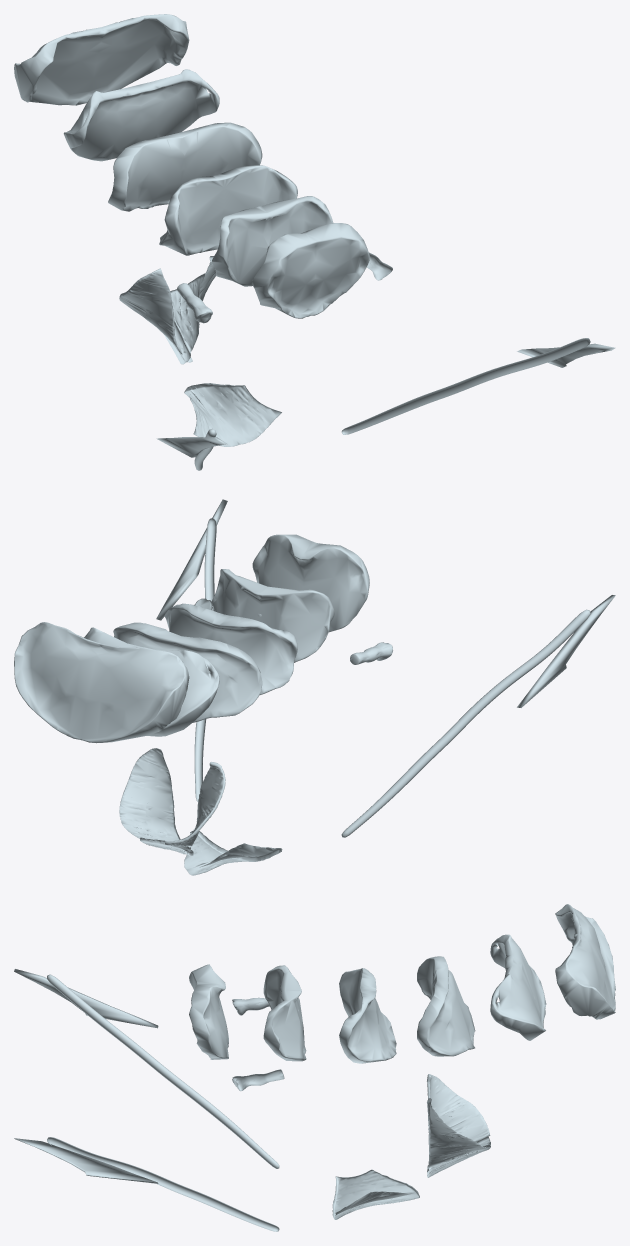
Rendered from neck__joints.cdf56809e9.glb.
3 views of the same model, one above another, from view 1: azimuth 30°, elevation 25°; view 2: azimuth 150°, elevation 25°; view 3: azimuth 270°, elevation 25° (orthographic). The views are drawn at different scales.
Visible parts, largest first — view 1: Intervertebral disc C7-T1, Intervertebral disc C6-C7, Intervertebral disc C5-C6, Intervertebral disc C2-C3, Intervertebral disc C4-C5, Intervertebral disc C3-C4, Median thyrohyoid ligament, Stylohyoid ligament.l, Cricopharyngeal ligament.r, Cricopharyngeal ligament.l, Stylomandibular ligament.r, Stylomandibular ligament.l (+1 smaller); view 2: Intervertebral disc C7-T1, Intervertebral disc C2-C3, Intervertebral disc C3-C4, Intervertebral disc C4-C5, Intervertebral disc C5-C6, Cricopharyngeal ligament.l, Stylohyoid ligament.r, Intervertebral disc C6-C7, Median thyrohyoid ligament, Stylohyoid ligament.l, Stylomandibular ligament.r, Cricopharyngeal ligament.r (+2 smaller); view 3: Intervertebral disc C7-T1, Intervertebral disc C5-C6, Intervertebral disc C6-C7, Intervertebral disc C4-C5, Intervertebral disc C3-C4, Intervertebral disc C2-C3, Stylohyoid ligament.r, Median thyrohyoid ligament, Cricopharyngeal ligament.r, Stylohyoid ligament.l, Cricopharyngeal ligament.l, Stylomandibular ligament.l (+3 smaller).
Boxes of the visible parts, x1=… form: Intervertebral disc C7-T1: x1=14, y1=14, x2=189, y2=105; Intervertebral disc C6-C7: x1=63, y1=69, x2=219, y2=161; Intervertebral disc C5-C6: x1=108, y1=122, x2=262, y2=211; Intervertebral disc C2-C3: x1=252, y1=223, x2=369, y2=318; Intervertebral disc C4-C5: x1=159, y1=165, x2=297, y2=255; Intervertebral disc C3-C4: x1=212, y1=196, x2=333, y2=286; Median thyrohyoid ligament: x1=184, y1=383, x2=281, y2=446; Stylohyoid ligament.l: x1=341, y1=338, x2=590, y2=434; Cricopharyngeal ligament.r: x1=119, y1=268, x2=182, y2=354; Cricopharyngeal ligament.l: x1=170, y1=256, x2=216, y2=351; Stylomandibular ligament.r: x1=156, y1=437, x2=227, y2=457; Stylomandibular ligament.l: x1=517, y1=343, x2=615, y2=367; Intervertebral disc C7-T1: x1=14, y1=622, x2=189, y2=743; Intervertebral disc C2-C3: x1=252, y1=534, x2=369, y2=632; Intervertebral disc C3-C4: x1=212, y1=569, x2=334, y2=662; Intervertebral disc C4-C5: x1=164, y1=603, x2=297, y2=695; Intervertebral disc C5-C6: x1=113, y1=622, x2=262, y2=722; Cricopharyngeal ligament.l: x1=119, y1=748, x2=180, y2=840; Stylohyoid ligament.r: x1=341, y1=609, x2=590, y2=837; Intervertebral disc C6-C7: x1=84, y1=627, x2=219, y2=736; Median thyrohyoid ligament: x1=184, y1=828, x2=282, y2=875; Stylohyoid ligament.l: x1=194, y1=518, x2=216, y2=801; Stylomandibular ligament.r: x1=517, y1=595, x2=615, y2=707; Cricopharyngeal ligament.r: x1=165, y1=762, x2=225, y2=847; Intervertebral disc C7-T1: x1=555, y1=904, x2=615, y2=1019; Intervertebral disc C5-C6: x1=417, y1=956, x2=475, y2=1056; Intervertebral disc C6-C7: x1=490, y1=934, x2=546, y2=1040; Intervertebral disc C4-C5: x1=339, y1=968, x2=396, y2=1063; Intervertebral disc C3-C4: x1=263, y1=965, x2=306, y2=1061; Intervertebral disc C2-C3: x1=189, y1=964, x2=228, y2=1059; Stylohyoid ligament.r: x1=47, y1=974, x2=279, y2=1168; Median thyrohyoid ligament: x1=332, y1=1169, x2=419, y2=1219; Cricopharyngeal ligament.r: x1=427, y1=1074, x2=490, y2=1164; Stylohyoid ligament.l: x1=47, y1=1137, x2=279, y2=1231; Cricopharyngeal ligament.l: x1=427, y1=1098, x2=489, y2=1169; Stylomandibular ligament.l: x1=14, y1=1138, x2=158, y2=1183.
Size of the model in its own units: 78.88 by 61.48 by 118.
